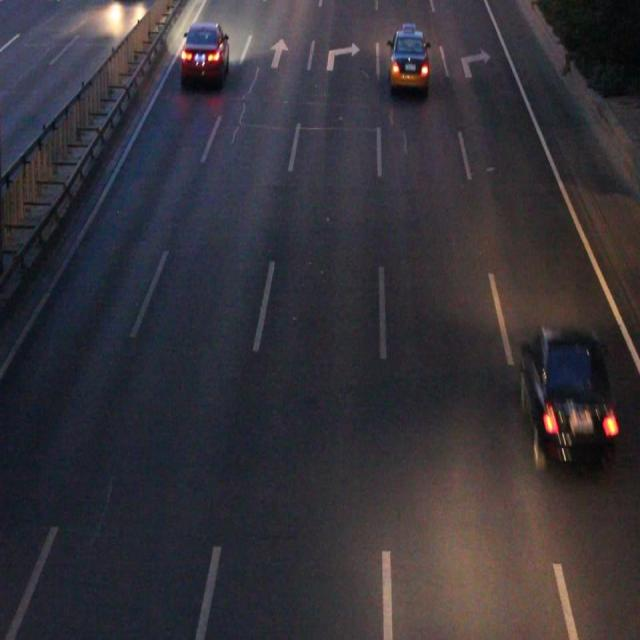car: (522, 331, 613, 462), (182, 28, 228, 82), (389, 32, 427, 84)
